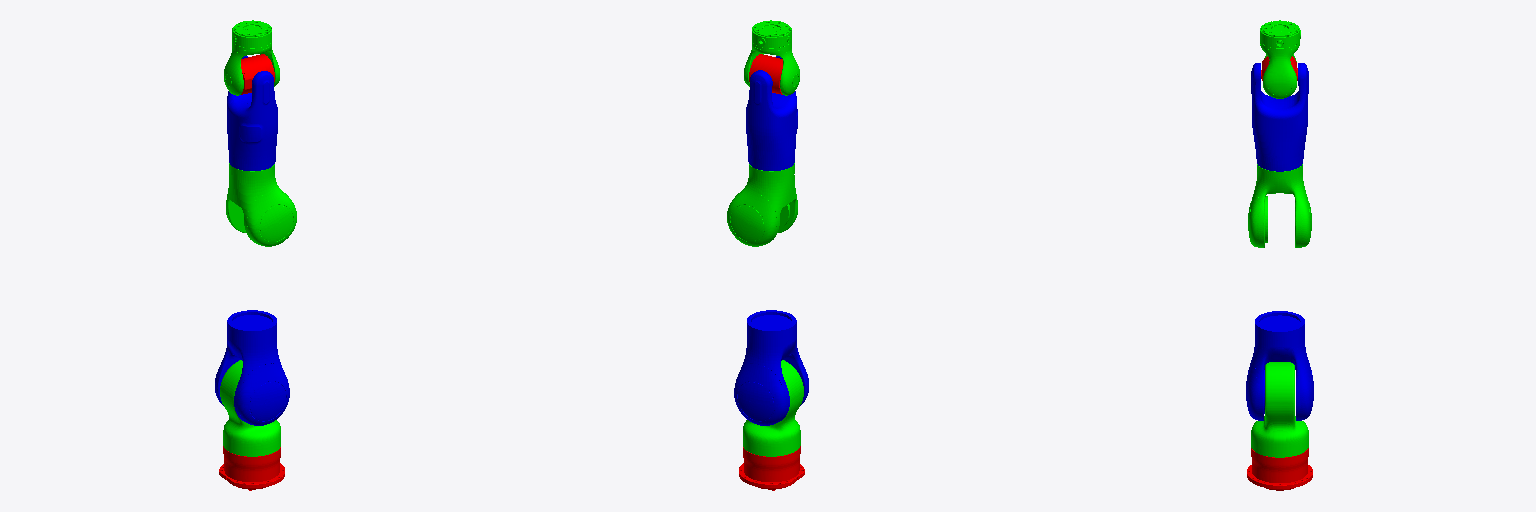
The robot description file, URDF, robot "Marvin M6S-Lite-R-CCS-680-V1.0 urdf":
<?xml version="1.0" encoding="utf-8"?>
<!-- This URDF was automatically created by SolidWorks to URDF Exporter! Originally created by Stephen Brawner (brawner@gmail.com) 
     Commit Version: 1.5.1-0-g916b5db  Build Version: 1.5.7152.31018
     For more information, please see http://wiki.ros.org/sw_urdf_exporter -->
<robot
  name="Marvin M6S-Lite-R-CCS-680-V1.0 urdf">
  <link
    name="Base_R">
    <inertial>
      <origin
        xyz="1.1648e-04 -9.321e-05 3.390668e-02"
        rpy="0 0 0" />
      <mass
        value="0.8553322" />
      <inertia
        ixx="6.5490e-04"
        ixy="-1.5e-07"
        ixz="7.70e-06"
        iyy="6.6931e-04"
        iyz="2.01e-06"
        izz="8.0985e-04" />
    </inertial>
    <visual>
      <origin
        xyz="0 0 0"
        rpy="0 0 0" />
      <geometry>
        <mesh
          filename="package://Marvin M6S-Lite-R-CCS-680-V1.0 urdf/meshes/Base_R.STL" />
      </geometry>
      <material
        name="">
        <color
          rgba="1 0 0 1" />
      </material>
    </visual>
    <collision>
      <origin
        xyz="0 0 0"
        rpy="0 0 0" />
      <geometry>
        <mesh
          filename="package://Marvin M6S-Lite-R-CCS-680-V1.0 urdf/meshes/Base_R.STL" />
      </geometry>
    </collision>
  </link>
  <link
    name="Link1_R">
    <inertial>
      <origin
        xyz="-3.3175e-04 -4.26687e-03 -3.522466e-02"
        rpy="0 0 0" />
      <mass
        value="1.537551" />
      <inertia
        ixx="3.66914e-03"
        ixy="1.77e-06"
        ixz="1.342e-05"
        iyy="3.94529e-03"
        iyz="-2.3437e-04"
        izz="1.31774e-03" />
    </inertial>
    <visual>
      <origin
        xyz="0 0 0"
        rpy="0 0 0" />
      <geometry>
        <mesh
          filename="package://Marvin M6S-Lite-R-CCS-680-V1.0 urdf/meshes/Link1_R.STL" />
      </geometry>
      <material
        name="">
        <color
          rgba="0 1 0 1" />
      </material>
    </visual>
    <collision>
      <origin
        xyz="0 0 0"
        rpy="0 0 0" />
      <geometry>
        <mesh
          filename="package://Marvin M6S-Lite-R-CCS-680-V1.0 urdf/meshes/Link1_R.STL" />
      </geometry>
    </collision>
  </link>
  <joint
    name="Joint1_R"
    type="revolute">
    <origin
      xyz="0 0 0.1586"
      rpy="0 0 0" />
    <parent
      link="Base_R" />
    <child
      link="Link1_R" />
    <axis
      xyz="0 0 1" />
    <limit
      lower="-3.0194"
      upper="3.0194"
      effort="35"
      velocity="3.1416" />
  </joint>
  <link
    name="Link2_R">
    <inertial>
      <origin
        xyz="2.044e-05 0.0535881 -0.00881535"
        rpy="0 0 0" />
      <mass
        value="1.58697" />
      <inertia
        ixx="0.00651482"
        ixy="8.49e-06"
        ixz="1.19e-06"
        iyy="0.0018653"
        iyz="0.00075929"
        izz="0.00613149" />
    </inertial>
    <visual>
      <origin
        xyz="0 0 0"
        rpy="0 0 0" />
      <geometry>
        <mesh
          filename="package://Marvin M6S-Lite-R-CCS-680-V1.0 urdf/meshes/Link2_R.STL" />
      </geometry>
      <material
        name="">
        <color
          rgba="0 0 1 1" />
      </material>
    </visual>
    <collision>
      <origin
        xyz="0 0 0"
        rpy="0 0 0" />
      <geometry>
        <mesh
          filename="package://Marvin M6S-Lite-R-CCS-680-V1.0 urdf/meshes/Link2_R.STL" />
      </geometry>
    </collision>
  </link>
  <joint
    name="Joint2_R"
    type="revolute">
    <origin
      xyz="0 0 0"
      rpy="1.5708 0 0" />
    <parent
      link="Link1_R" />
    <child
      link="Link2_R" />
    <axis
      xyz="0 0 1" />
    <limit
      lower="-2.0595"
      upper="2.0595"
      effort="35"
      velocity="3.1416" />
  </joint>
  <link
    name="Link3_R">
    <inertial>
      <origin
        xyz="0.00782627 -0.00511917 -0.07354675"
        rpy="0 0 0" />
      <mass
        value="1.66375928" />
      <inertia
        ixx="0.01097251"
        ixy="-0.00007013"
        ixz="0.00099536"
        iyy="0.01136075"
        iyz="-0.00049180"
        izz="0.00157281" />
    </inertial>
    <visual>
      <origin
        xyz="0 0 0"
        rpy="0 0 0" />
      <geometry>
        <mesh
          filename="package://Marvin M6S-Lite-R-CCS-680-V1.0 urdf/meshes/Link3_R.STL" />
      </geometry>
      <material
        name="">
        <color
          rgba="1 0 0 1" />
      </material>
    </visual>
    <collision>
      <origin
        xyz="0 0 0"
        rpy="0 0 0" />
      <geometry>
        <mesh
          filename="package://Marvin M6S-Lite-R-CCS-680-V1.0 urdf/meshes/Link3_R.STL" />
      </geometry>
    </collision>
  </link>
  <joint
    name="Joint3_R"
    type="revolute">
    <origin
      xyz="0 0.329 0"
      rpy="-1.5708 0 0" />
    <parent
      link="Link2_R" />
    <child
      link="Link3_R" />
    <axis
      xyz="0 0 1" />
    <limit
      lower="-3.0194"
      upper="3.0194"
      effort="18"
      velocity="3.1416" />
  </joint>
  <link
    name="Link4_R">
    <inertial>
      <origin
        xyz="0.00840183 -0.038565 -0.0073627"
        rpy="0 0 0" />
      <mass
        value="1.03775" />
      <inertia
        ixx="0.00308966"
        ixy="-0.00038612"
        ixz="7.072e-05"
        iyy="0.00119659"
        iyz="-0.00032564"
        izz="0.0029308" />
    </inertial>
    <visual>
      <origin
        xyz="0 0 0"
        rpy="0 0 0" />
      <geometry>
        <mesh
          filename="package://Marvin M6S-Lite-R-CCS-680-V1.0 urdf/meshes/Link4_R.STL" />
      </geometry>
      <material
        name="">
        <color
          rgba="0 1 0 1" />
      </material>
    </visual>
    <collision>
      <origin
        xyz="0 0 0"
        rpy="0 0 0" />
      <geometry>
        <mesh
          filename="package://Marvin M6S-Lite-R-CCS-680-V1.0 urdf/meshes/Link4_R.STL" />
      </geometry>
    </collision>
  </link>
  <joint
    name="Joint4_R"
    type="revolute">
    <origin
      xyz="0.018 0 0"
      rpy="-1.5708 0 3.1416" />
    <parent
      link="Link3_R" />
    <child
      link="Link4_R" />
    <axis
      xyz="0 0 1" />
    <limit
      lower="-2.5307"
      upper="0.7854"
      effort="18"
      velocity="3.1416" />
  </joint>
  <link
    name="Link5_R">
    <inertial>
      <origin
        xyz="5.008e-04 -2.23923e-03 -9.253416e-02"
        rpy="0 0 0" />
      <mass
        value="1.000479" />
      <inertia
        ixx="2.17057e-03"
        ixy="-1.142e-05"
        ixz="6.68e-06"
        iyy="1.95131e-03"
        iyz="-3.059e-05"
        izz="8.4222e-04" />
    </inertial>
    <visual>
      <origin
        xyz="0 0 0"
        rpy="0 0 0" />
      <geometry>
        <mesh
          filename="package://Marvin M6S-Lite-R-CCS-680-V1.0 urdf/meshes/Link5_R.STL" />
      </geometry>
      <material
        name="">
        <color
          rgba="0 0 1 1" />
      </material>
    </visual>
    <collision>
      <origin
        xyz="0 0 0"
        rpy="0 0 0" />
      <geometry>
        <mesh
          filename="package://Marvin M6S-Lite-R-CCS-680-V1.0 urdf/meshes/Link5_R.STL" />
      </geometry>
    </collision>
  </link>
  <joint
    name="Joint5_R"
    type="revolute">
    <origin
      xyz="0.018 -0.264 0"
      rpy="-1.5708 0 3.1416" />
    <parent
      link="Link4_R" />
    <child
      link="Link5_R" />
    <axis
      xyz="0 0 1" />
    <limit
      lower="-3.0194"
      upper="3.0194"
      effort="5.5"
      velocity="3.1416" />
  </joint>
  <link
    name="Link6_R">
    <inertial>
      <origin
        xyz="-1.8634e-04 2.3824e-04 5.829e-04"
        rpy="0 0 0" />
      <mass
        value="0.3906229" />
      <inertia
        ixx="1.9943e-04"
        ixy="-1.1800e-06"
        ixz="-3.0000e-07"
        iyy="1.7163e-04"
        iyz="3.5300e-06"
        izz="1.8567e-04" />
    </inertial>
    <visual>
      <origin
        xyz="0 0 0"
        rpy="0 0 0" />
      <geometry>
        <mesh
          filename="package://Marvin M6S-Lite-R-CCS-680-V1.0 urdf/meshes/Link6_R.STL" />
      </geometry>
      <material
        name="">
        <color
          rgba="1 0 0 1" />
      </material>
    </visual>
    <collision>
      <origin
        xyz="0 0 0"
        rpy="0 0 0" />
      <geometry>
        <mesh
          filename="package://Marvin M6S-Lite-R-CCS-680-V1.0 urdf/meshes/Link6_R.STL" />
      </geometry>
    </collision>
  </link>
  <joint
    name="Joint6_R"
    type="revolute">
    <origin
      xyz="0 0 0"
      rpy="1.5708 -1.5708 0" />
    <parent
      link="Link5_R" />
    <child
      link="Link6_R" />
    <axis
      xyz="0 0 1" />
    <limit
      lower="-1.0472"
      upper="1.0472"
      effort="5.5"
      velocity="3.1416" />
  </joint>
  <link
    name="Link7_R">
    <inertial>
      <origin
        xyz="-5.2431e-04 -3.976234e-02 7.27342e-03"
        rpy="0 0 0" />
      <mass
        value="0.37939" />
      <inertia
        ixx="7.0308e-04"
        ixy="5.97e-06"
        ixz="7.30e-07"
        iyy="3.0365e-04"
        iyz="1.2769e-04"
        izz="5.8833e-04" />
    </inertial>
    <visual>
      <origin
        xyz="0 0 0"
        rpy="0 0 0" />
      <geometry>
        <mesh
          filename="package://Marvin M6S-Lite-R-CCS-680-V1.0 urdf/meshes/Link7_R.STL" />
      </geometry>
      <material
        name="">
        <color
          rgba="0 1 0 1" />
      </material>
    </visual>
    <collision>
      <origin
        xyz="0 0 0"
        rpy="0 0 0" />
      <geometry>
        <mesh
          filename="package://Marvin M6S-Lite-R-CCS-680-V1.0 urdf/meshes/Link7_R.STL" />
      </geometry>
    </collision>
  </link>
  <joint
    name="Joint7_R"
    type="revolute">
    <origin
      xyz="0 0 0"
      rpy="1.5708 -1.5708 0" />
    <parent
      link="Link6_R" />
    <child
      link="Link7_R" />
    <axis
      xyz="0 0 1" />
    <limit
      lower="-1.5708"
      upper="1.5708"
      effort="5.5"
      velocity="3.1416" />
  </joint>
  <link
    name="TCP_Link_R">
    <inertial>
      <origin
        xyz="0 0 0"
        rpy="0 0 0" />
      <mass
        value="0" />
      <inertia
        ixx="0"
        ixy="0"
        ixz="0"
        iyy="0"
        iyz="0"
        izz="0" />
    </inertial>
    <visual>
      <origin
        xyz="0 0 0"
        rpy="0 0 0" />
      <geometry>
        <mesh
          filename="package://Marvin M6S-Lite-R-CCS-680-V1.0 urdf/meshes/TCP_Link_R.STL" />
      </geometry>
      <material
        name="">
        <color
          rgba="1 1 1 1" />
      </material>
    </visual>
    <collision>
      <origin
        xyz="0 0 0"
        rpy="0 0 0" />
      <geometry>
        <mesh
          filename="package://Marvin M6S-Lite-R-CCS-680-V1.0 urdf/meshes/TCP_Link_R.STL" />
      </geometry>
    </collision>
  </link>
  <joint
    name="JointTCP_R"
    type="fixed">
    <origin
      xyz="0 -0.087 0"
      rpy="1.5708 -1.5708 0" />
    <parent
      link="Link7_R" />
    <child
      link="TCP_Link_R" />
    <axis
      xyz="0 0 0" />
  </joint>
</robot>

--- Facts derived from the render (not from the file) ---
The picture shows the robot from 3 angles, left to right: view 1: azimuth 30°, elevation 25°; view 2: azimuth 150°, elevation 25°; view 3: azimuth 270°, elevation 25°; orthographic projection.
Model Marvin M6S-Lite-R-CCS-680-V1.0 urdf with 9 links and 8 joints (7 revolute, 1 fixed), rooted at Base_R, posed all joints at 0.
Visible links, largest first — view 1: Link2_R, Link4_R, Link5_R, Link1_R, Link7_R, Base_R, Link6_R; view 2: Link2_R, Link4_R, Link5_R, Link1_R, Link7_R, Base_R, Link6_R; view 3: Link5_R, Link2_R, Link1_R, Link4_R, Link7_R, Base_R.
Link boxes in pixels (box(x1,y1,x2,y2)): Link2_R: box(215, 310, 289, 425); Link4_R: box(226, 163, 296, 246); Link5_R: box(227, 56, 277, 170); Link1_R: box(220, 360, 280, 456); Link7_R: box(224, 20, 279, 95); Base_R: box(219, 446, 284, 490); Link6_R: box(241, 54, 274, 94); Link2_R: box(734, 310, 808, 425); Link4_R: box(727, 163, 797, 246); Link5_R: box(746, 56, 797, 170); Link1_R: box(743, 360, 803, 456); Link7_R: box(744, 20, 799, 95); Base_R: box(739, 446, 804, 490); Link6_R: box(749, 54, 782, 94); Link5_R: box(1251, 63, 1308, 171); Link2_R: box(1246, 311, 1313, 420); Link1_R: box(1251, 362, 1308, 457); Link4_R: box(1248, 164, 1311, 247); Link7_R: box(1260, 20, 1300, 98); Base_R: box(1247, 448, 1312, 490).
Size in the robot's own frame: 0.1185 by 0.1158 by 0.8697 metres.
Meshes: 9 distinct files referenced, 7 mesh visuals loaded (7 binary STL); not drawn: 2 (reference not matched to a file when rendering).
